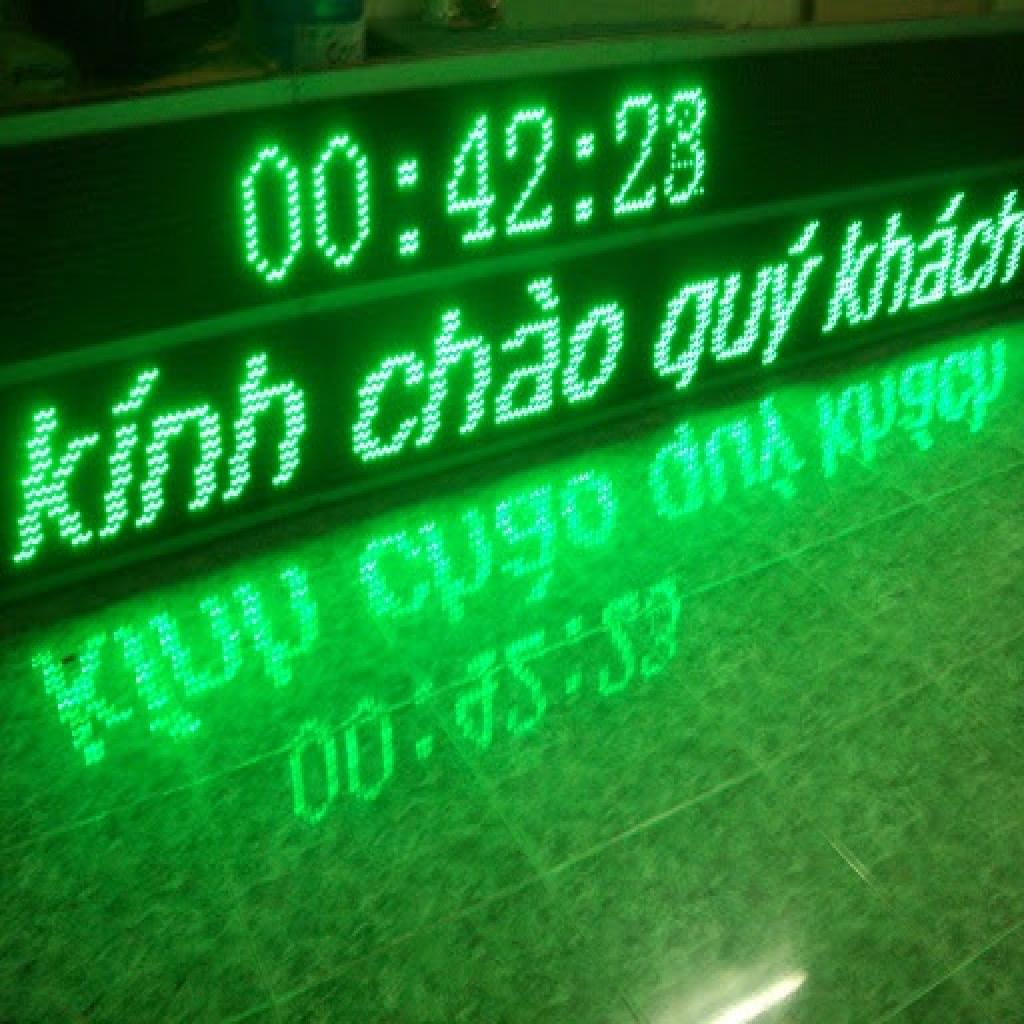text: (212, 64, 718, 315), (8, 314, 334, 586), (346, 254, 632, 486), (646, 205, 840, 419)
